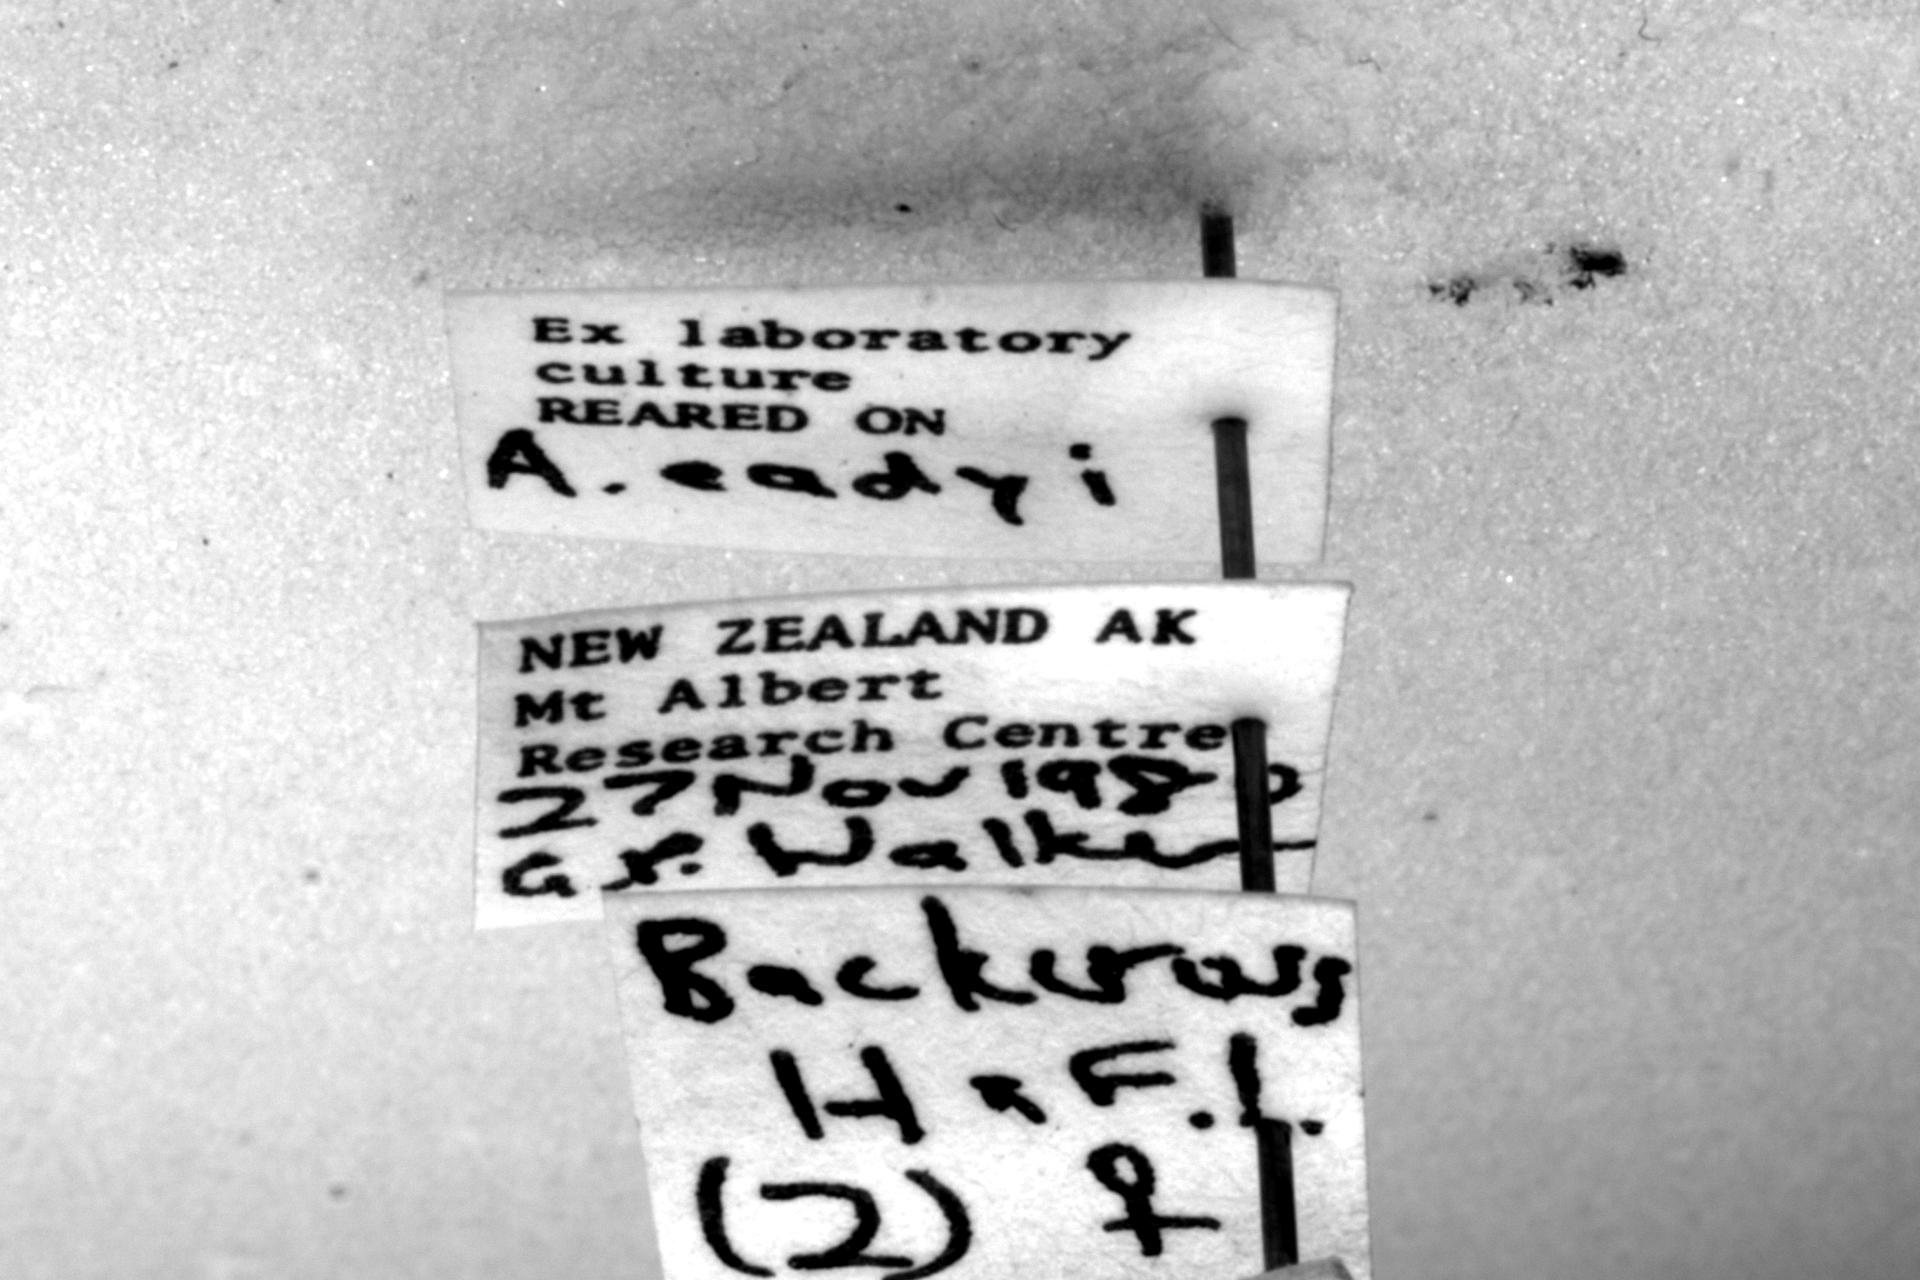hand_label: (607, 889, 1369, 1280)
mixed_label: (476, 581, 1350, 926), (446, 281, 1339, 563)
